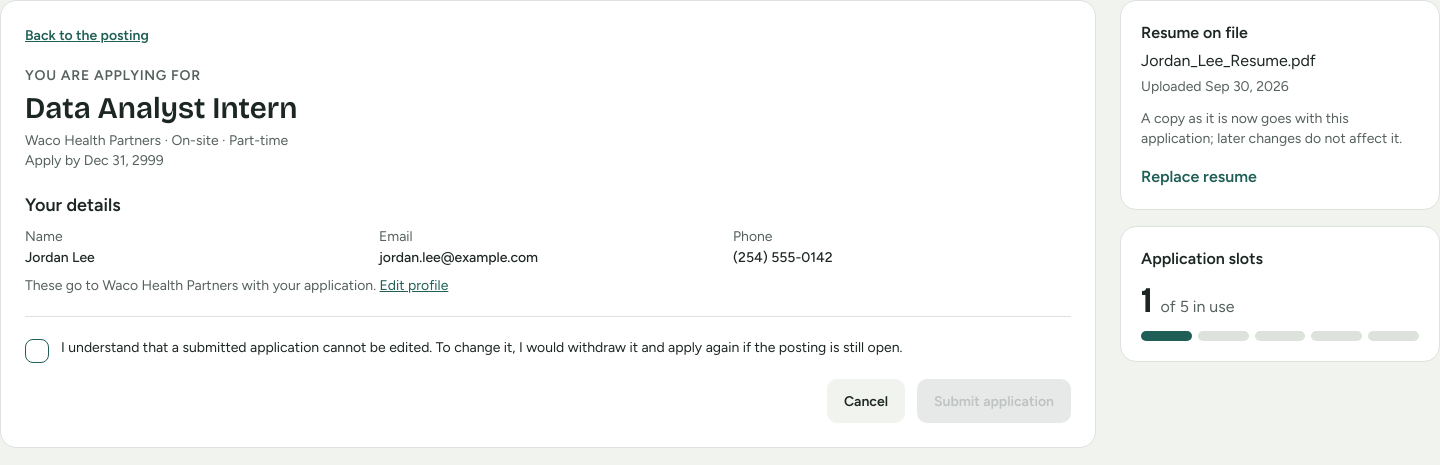
Test case: ApplyForm › confirms the submission with the backend's count and a link to tracking (FR-UC04.4, FR-UC04.5)
Click the checkbox. click: (37, 351)
box: [25,339,49,363]
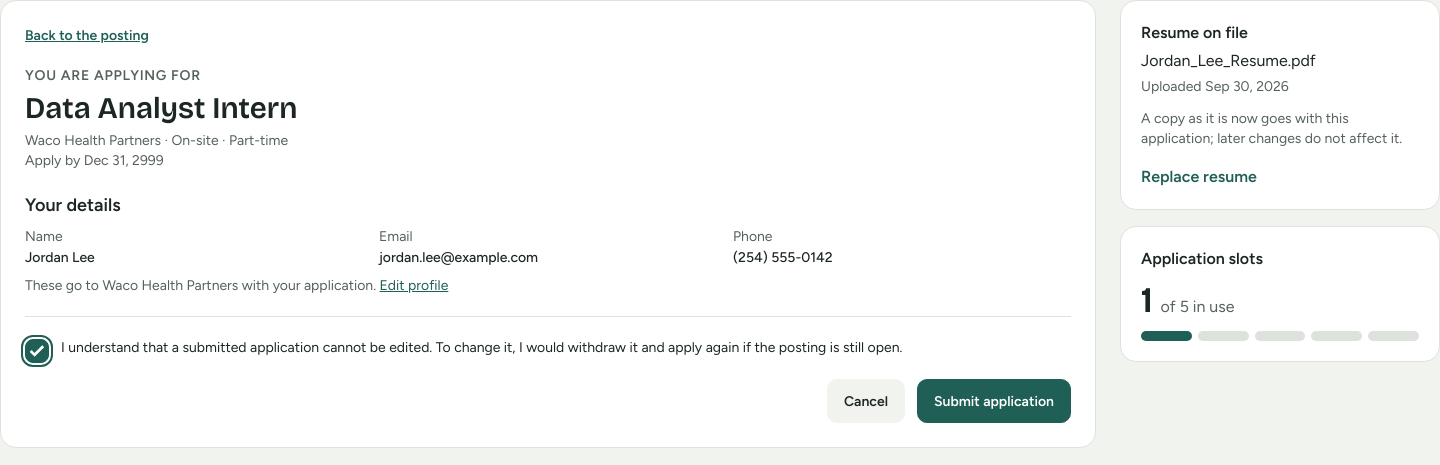
Click the button "Submit application". click: (994, 401)
box: [917,379,1071,423]
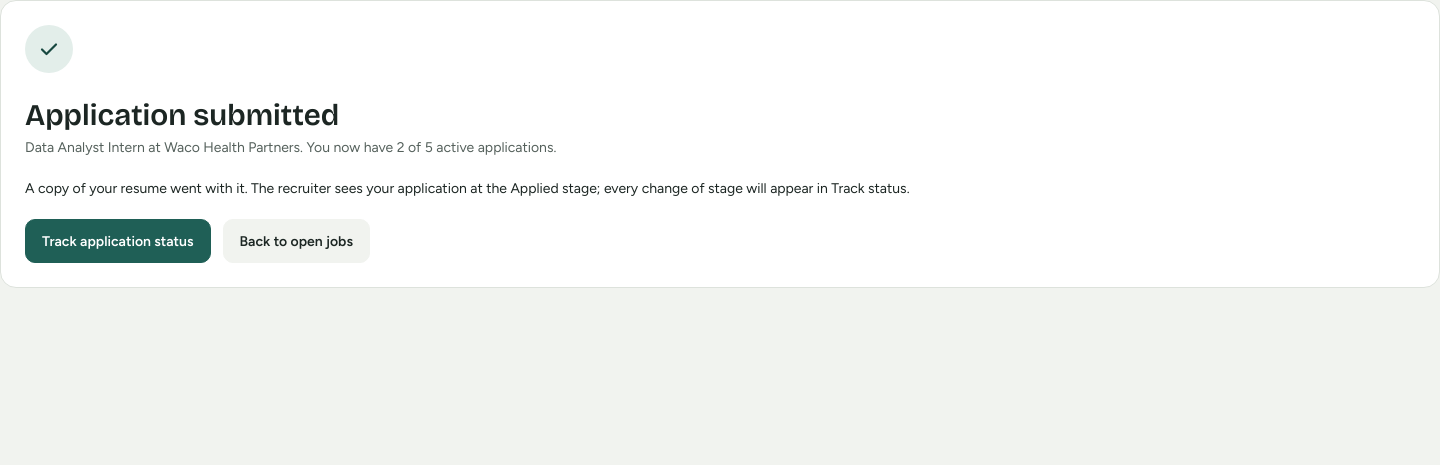
Result: the heading "Application submitted" is shown at [25,97,339,133]
Result: the text "2 of 5 active applications" is shown at [25,139,556,156]
